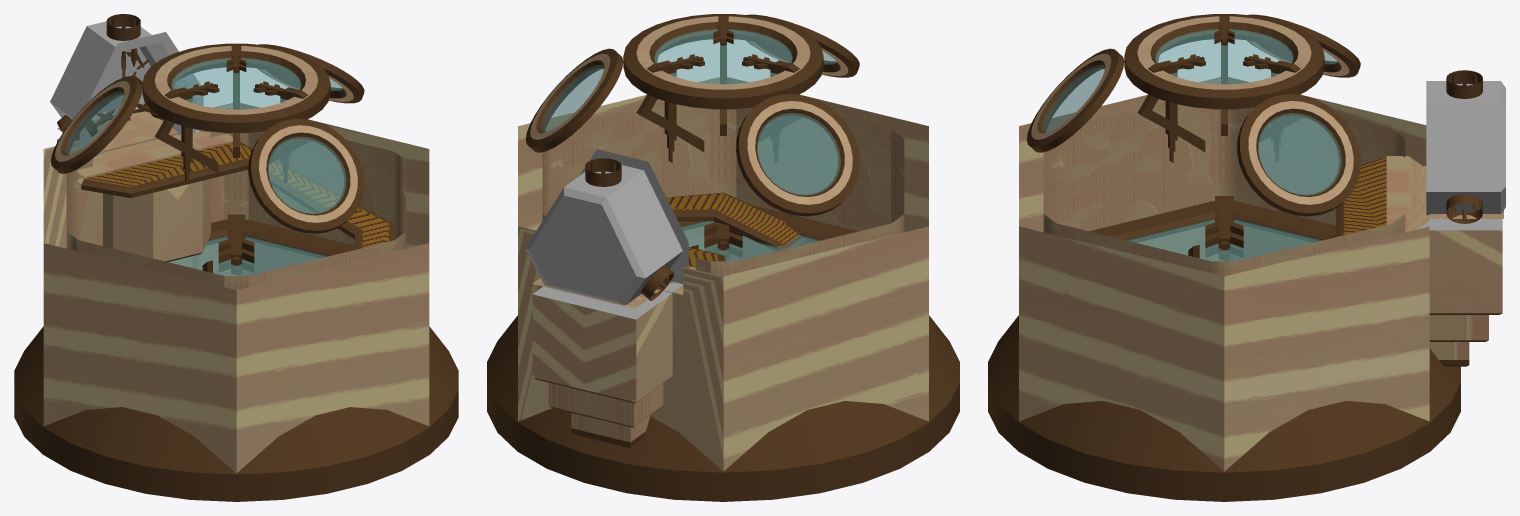
The model's file is TowerPeak.fbx.
3 renders of one model, left to right at view 1: azimuth 30°, elevation 25°; view 2: azimuth 150°, elevation 25°; view 3: azimuth 270°, elevation 25°, orthographic. The views are drawn at different scales.
Parts seen in each view (by area): view 1: group67; view 2: group67; view 3: group67.
Boxes of the visible parts, bbox=[...] form: group67: bbox=[14, 14, 458, 501]; group67: bbox=[487, 14, 959, 501]; group67: bbox=[988, 14, 1505, 501].
Size of the model in its own units: 29.07 by 26.82 by 31.66.
